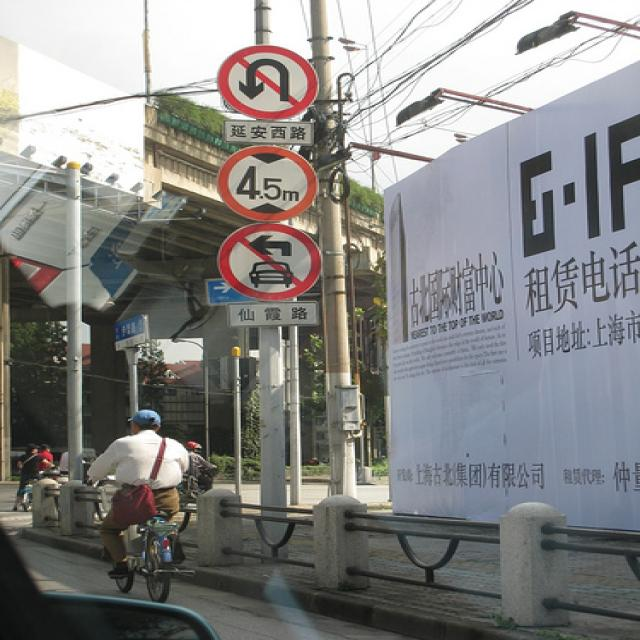Vehicle: (0, 525, 221, 640), (302, 456, 321, 466)
